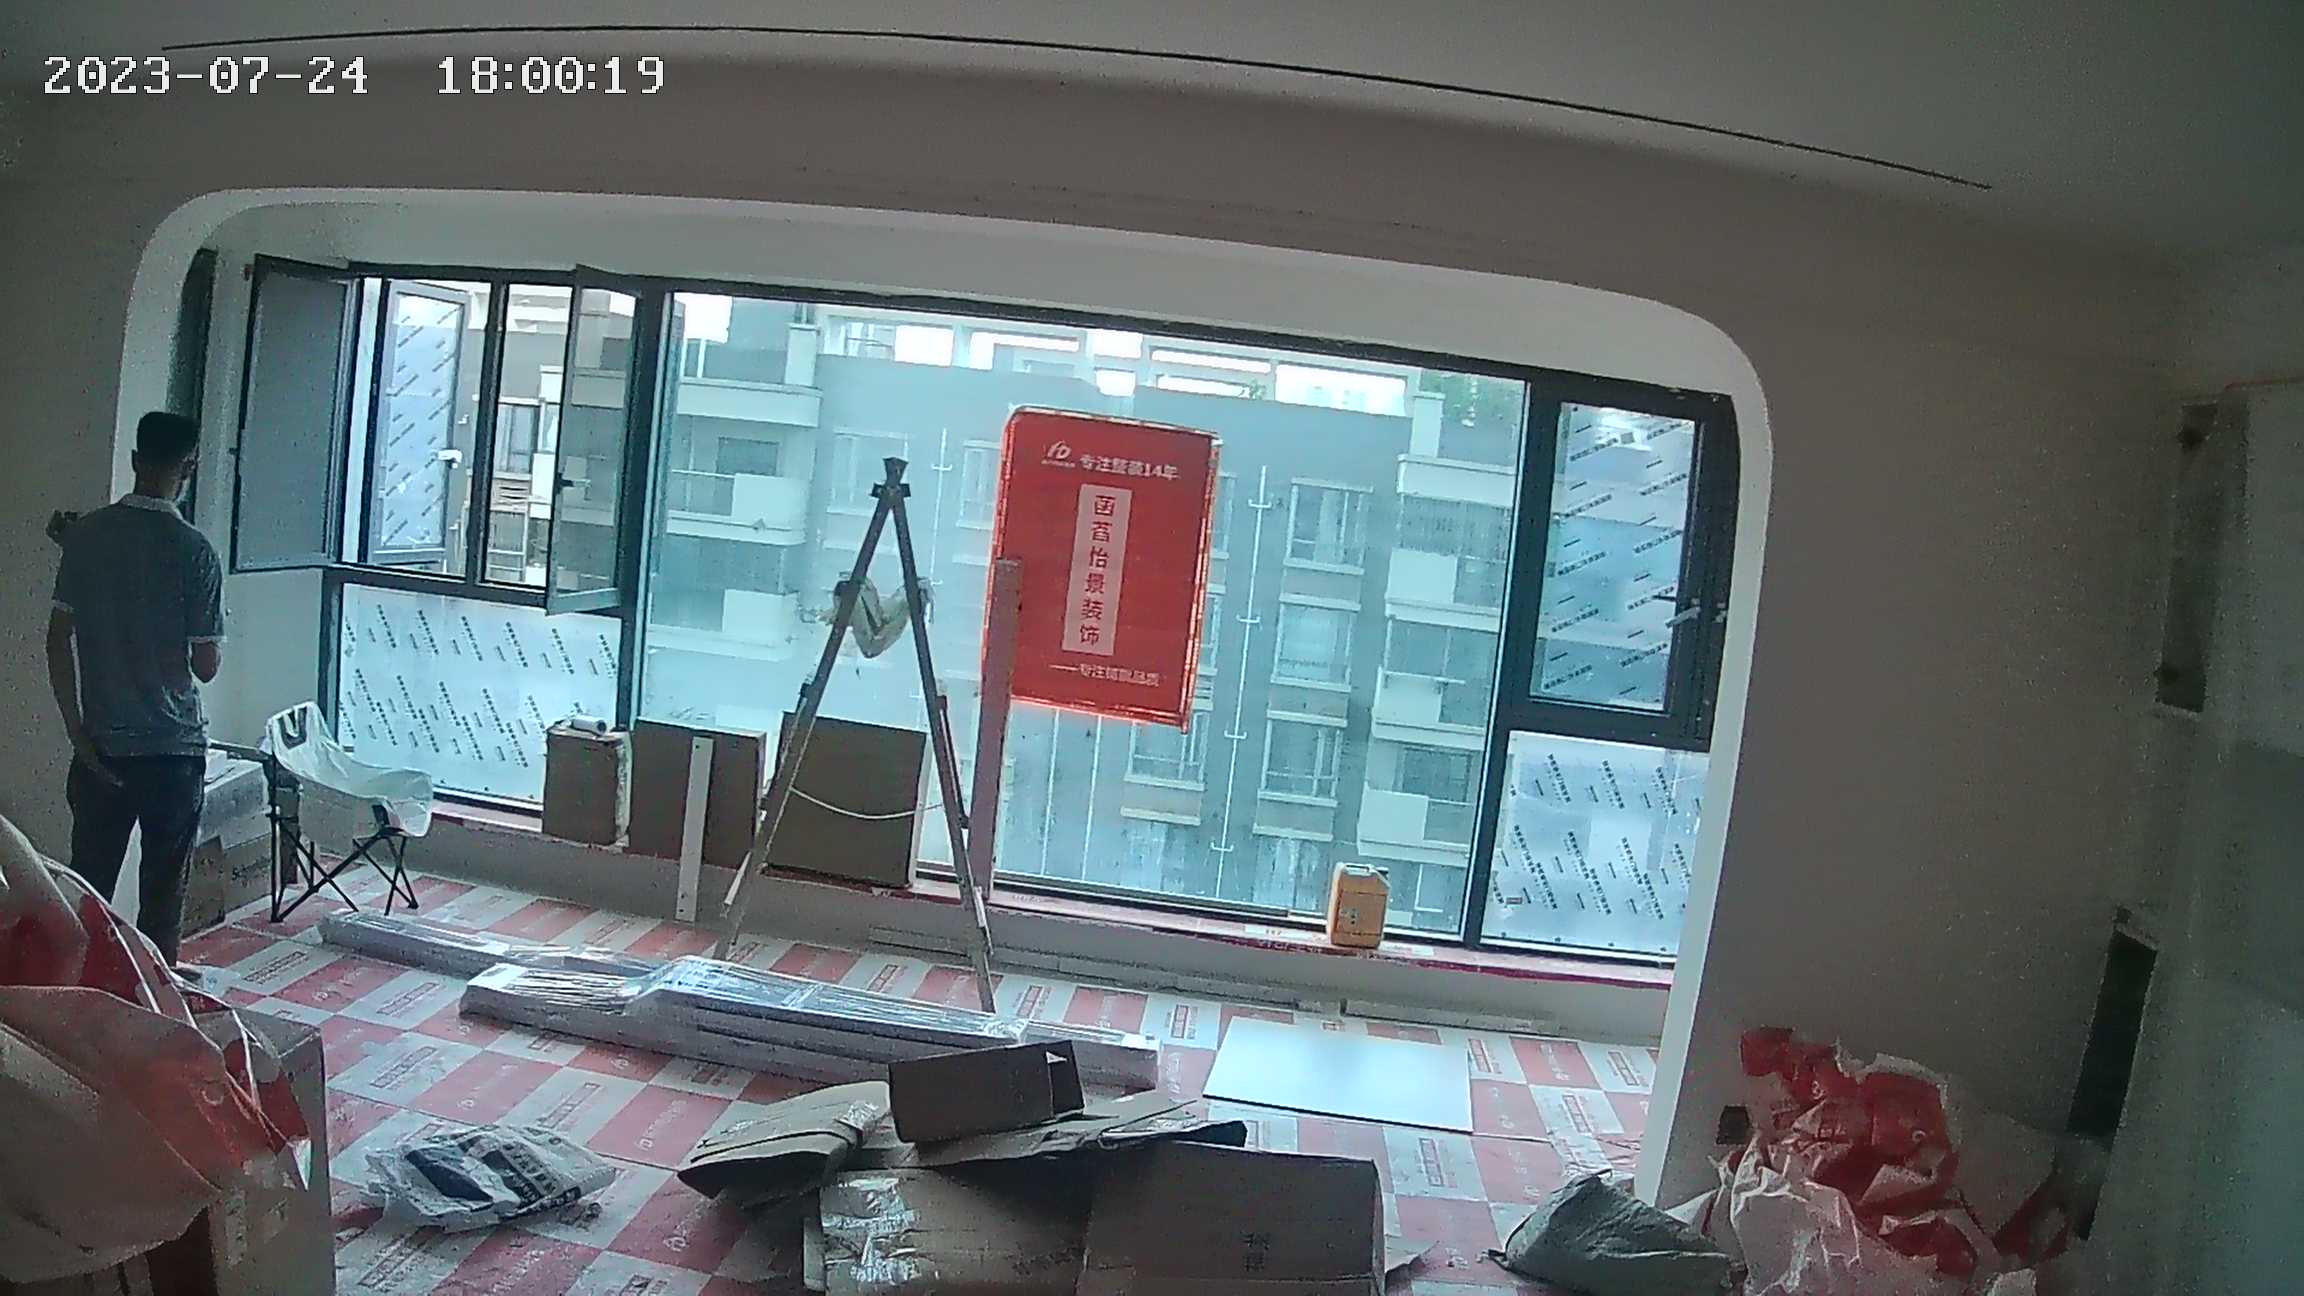people: (41, 405, 227, 958)
window: (348, 273, 1728, 964)
